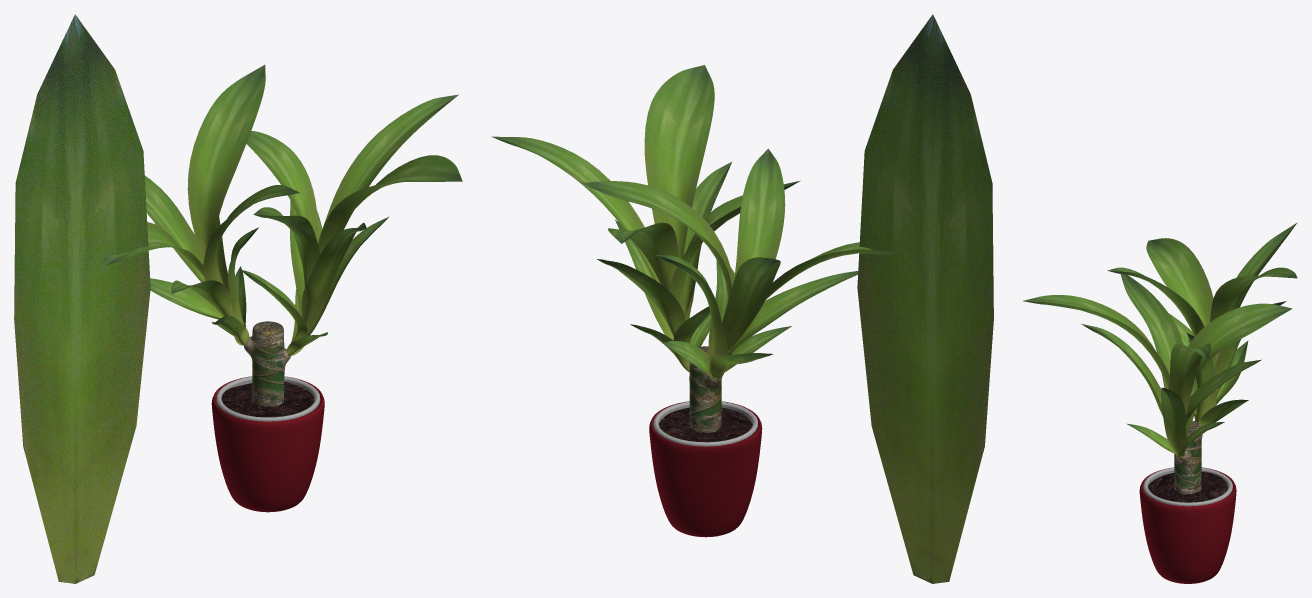
The model's file is plant_02.obj.
3 views of the same model, side by side, from view 1: azimuth 30°, elevation 25°; view 2: azimuth 150°, elevation 25°; view 3: azimuth 270°, elevation 25° (orthographic). The views are drawn at different scales.
Visible parts, largest first — view 1: Plane_Plane.001, indoor_plant_02; view 2: Plane_Plane.001, indoor_plant_02; view 3: indoor_plant_02.
Boxes of the visible parts, x1=… form: Plane_Plane.001: x1=14, y1=14, x2=150, y2=583; indoor_plant_02: x1=103, y1=65, x2=462, y2=512; Plane_Plane.001: x1=857, y1=14, x2=993, y2=583; indoor_plant_02: x1=491, y1=65, x2=902, y2=537; indoor_plant_02: x1=1023, y1=222, x2=1297, y2=583.
Size of the model in its own units: 8.26 by 9.49 by 4.86.
7 materials, 6 textured.
